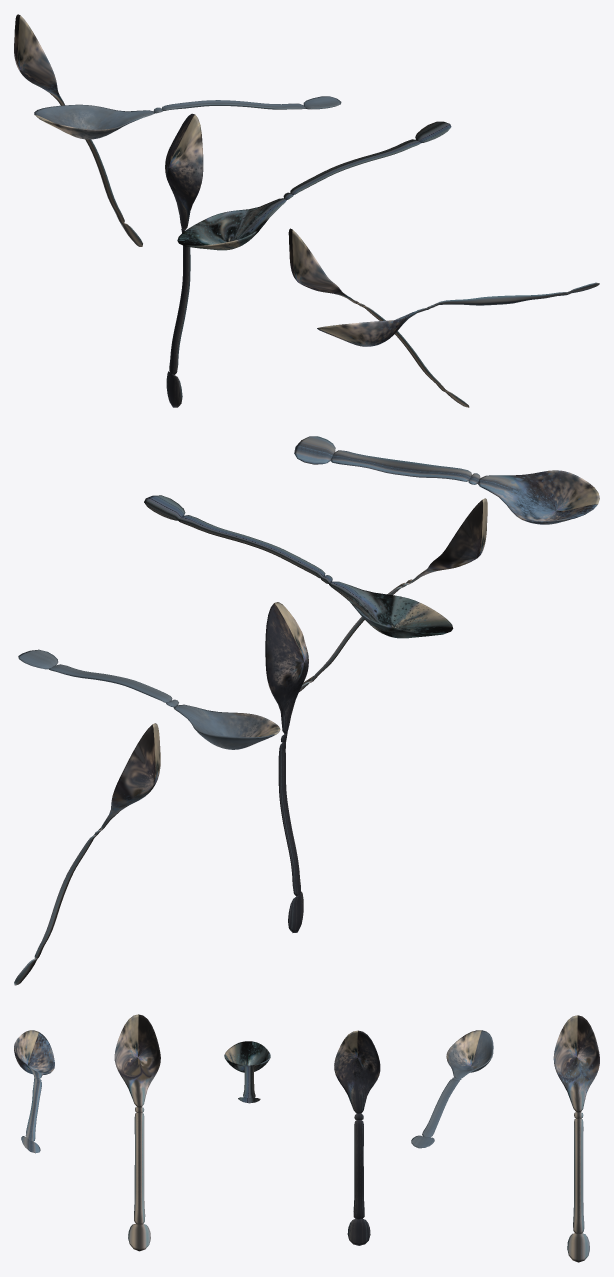
Rendered from set of spoons - SUB 1.fbx.
3 renders of one model, top to bottom at view 1: azimuth 30°, elevation 25°; view 2: azimuth 150°, elevation 25°; view 3: azimuth 270°, elevation 25°, orthographic. The views are drawn at different scales.
Visible parts, largest first — view 1: spoon 4, spoon 3, spoon 5, spoon 6, spoon 1, spoon 2; view 2: spoon 1, spoon 3, spoon 4, spoon 5, spoon 6, spoon 2; view 3: spoon 6, spoon 2, spoon 4, spoon 5, spoon 1, spoon 3.
Part boxes in pixels (box(x1,y1,x2,y2)): spoon 4: box(165, 113, 203, 407); spoon 3: box(177, 121, 451, 250); spoon 5: box(34, 96, 341, 139); spoon 6: box(14, 14, 142, 246); spoon 1: box(317, 282, 599, 346); spoon 2: box(288, 228, 469, 407); spoon 1: box(294, 436, 599, 524); spoon 3: box(144, 495, 453, 638); spoon 4: box(265, 602, 308, 932); spoon 5: box(18, 649, 280, 749); spoon 6: box(14, 723, 160, 985); spoon 2: box(299, 498, 487, 691); spoon 6: box(553, 1015, 599, 1262); spoon 2: box(114, 1014, 160, 1251); spoon 4: box(334, 1030, 380, 1245); spoon 5: box(411, 1030, 493, 1148); spoon 1: box(14, 1030, 54, 1153); spoon 3: box(224, 1041, 270, 1103).
Size of the model in its own units: 22.79 by 22.75 by 53.38.
